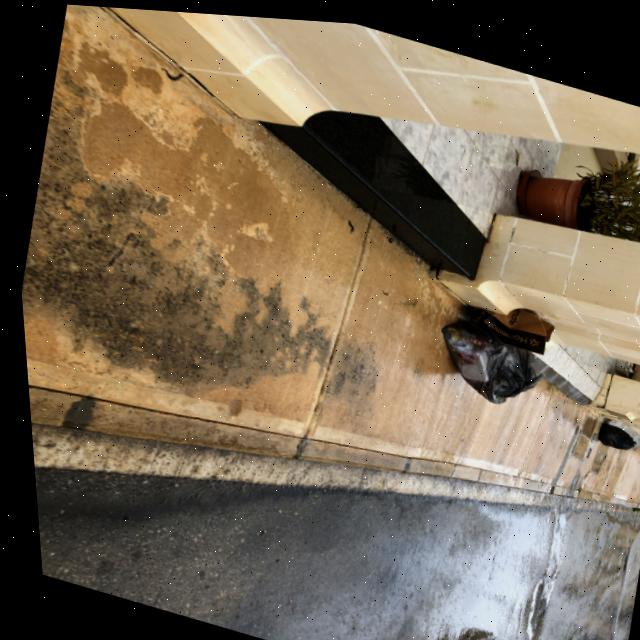Mixed Waste -Black Bag-: (421, 305, 551, 412), (589, 414, 633, 447)
Other: (457, 288, 555, 352)
